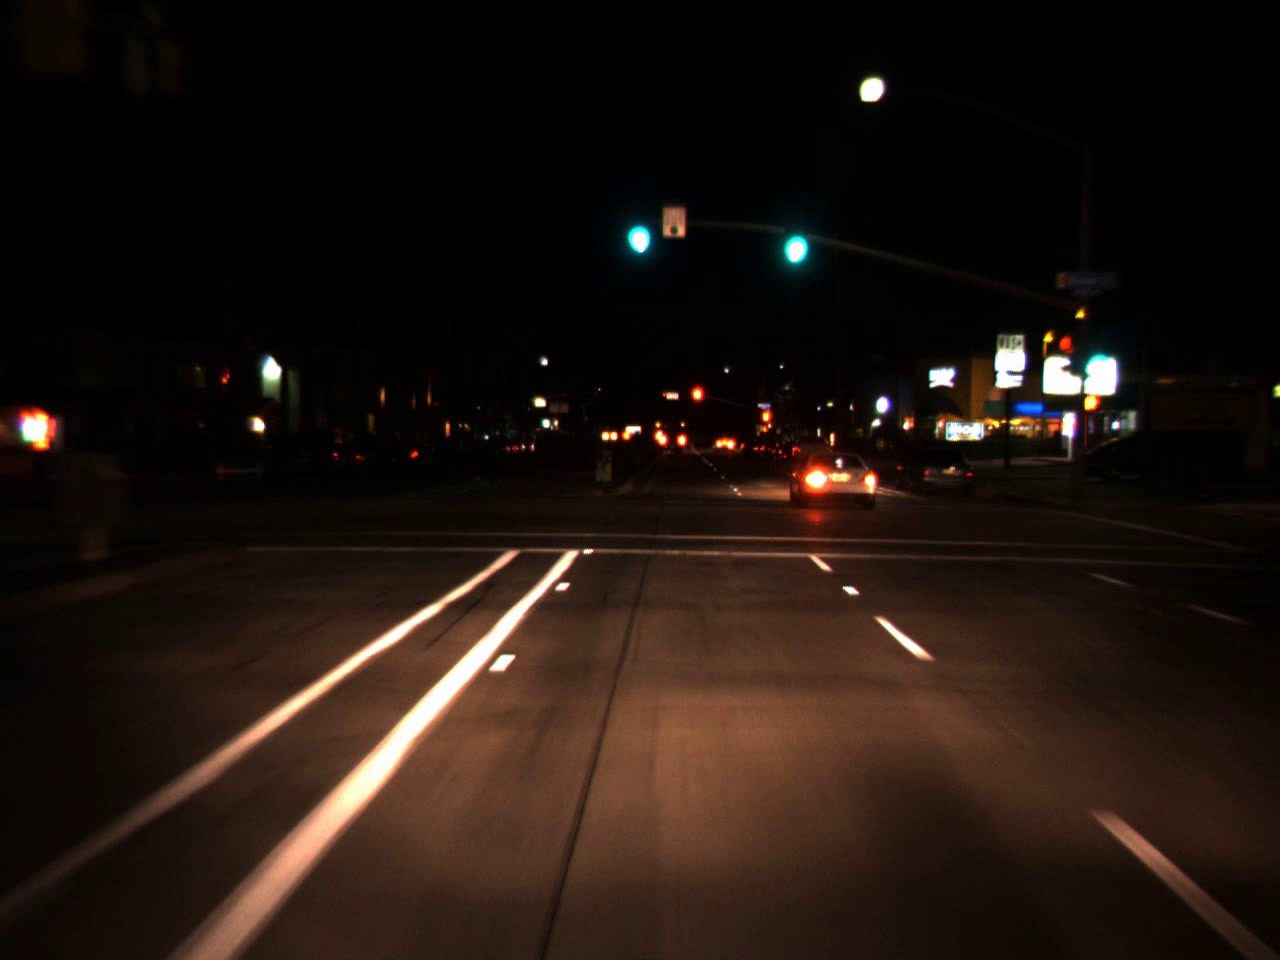go: (617, 188, 656, 266), (774, 199, 813, 274), (1078, 334, 1110, 382)
stop: (689, 382, 707, 419), (759, 407, 772, 439)
